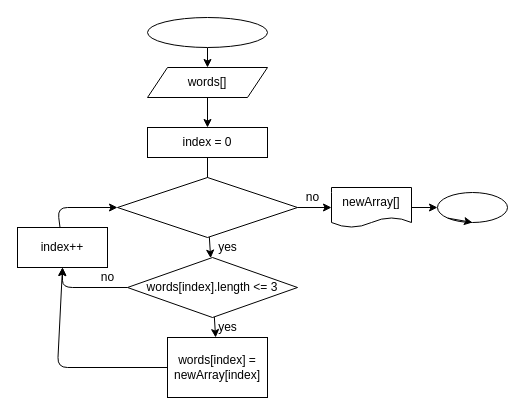
Some shapes in this 525 by 415 pixel diagram are drawn without their labels. Here are the shapes that lost their labels. From the top down, the centre of each, then its label:
At point 207,32: "Start".
At point 207,207: "index < words.length".
At point 472,207: "end".
